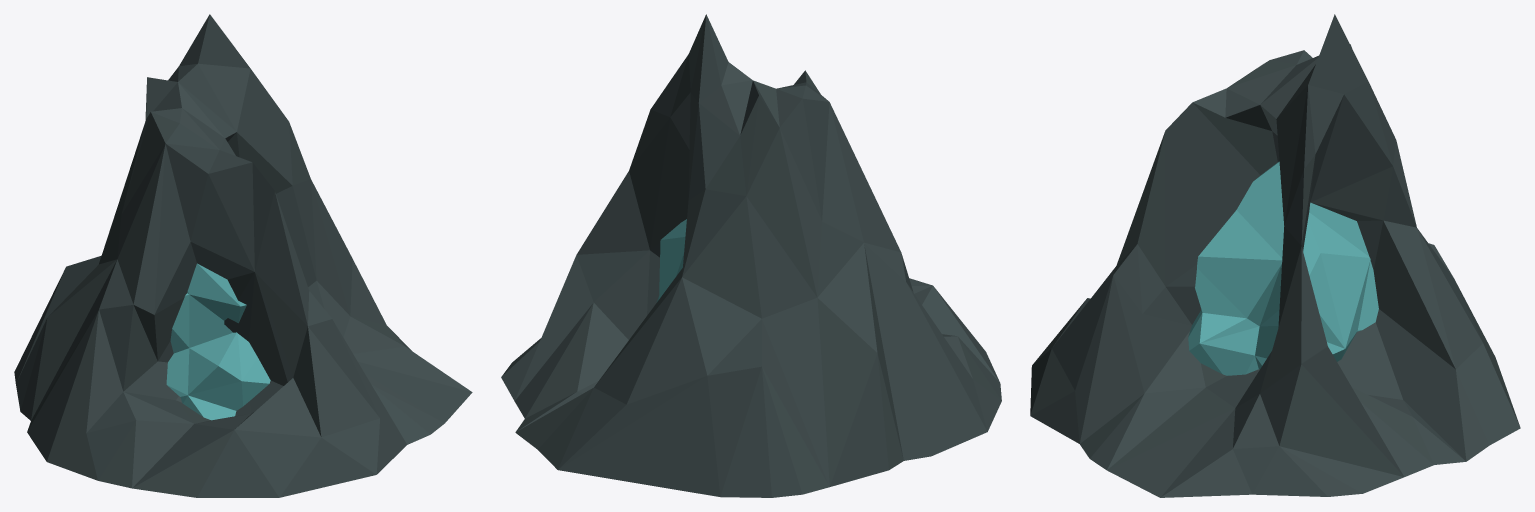
Rendered from TP_Mountain.fbx.
3 views of the same model, side by side, from view 1: azimuth 30°, elevation 25°; view 2: azimuth 150°, elevation 25°; view 3: azimuth 270°, elevation 25° (orthographic). The views are drawn at different scales.
Visible parts, largest first — view 1: TP_Mountain; view 2: TP_Mountain; view 3: TP_Mountain.
Boxes of the visible parts, x1,y1,x2,y2 form: TP_Mountain: [14, 14, 472, 497]; TP_Mountain: [501, 14, 1001, 497]; TP_Mountain: [1030, 14, 1520, 497].
Bounding box in the file's own units: 551 × 489 × 558.
Materials: 1 (1 with a texture image).
